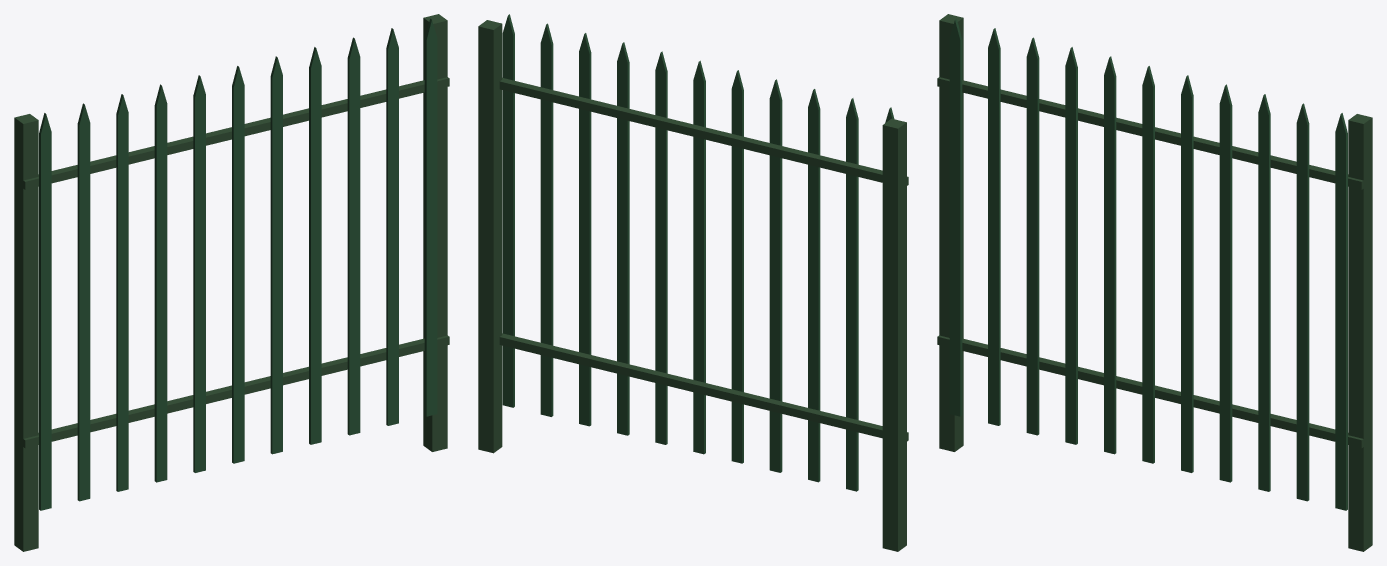
The model's file is boundary.palisade.estate_green.glb.
3 views of the same model, side by side, from view 1: azimuth 30°, elevation 25°; view 2: azimuth 150°, elevation 25°; view 3: azimuth 330°, elevation 25° (orthographic).
Visible parts, largest first — view 1: main__galv_353, main__paint_353; view 2: main__galv_353, main__paint_353; view 3: main__galv_353, main__paint_353.
Part boxes in pixels (x1,y1,x2,y2): main__galv_353: [39, 18, 437, 510]; main__paint_353: [14, 14, 449, 551]; main__galv_353: [502, 14, 894, 491]; main__paint_353: [478, 20, 908, 551]; main__galv_353: [949, 18, 1347, 510]; main__paint_353: [937, 14, 1372, 551].
Bounding box in the file's own units: 2.75 × 2.7 × 0.14.
